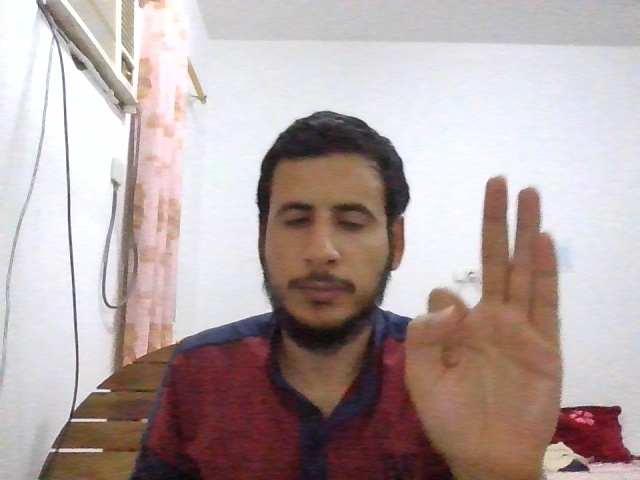Three: (405, 176, 565, 464)
